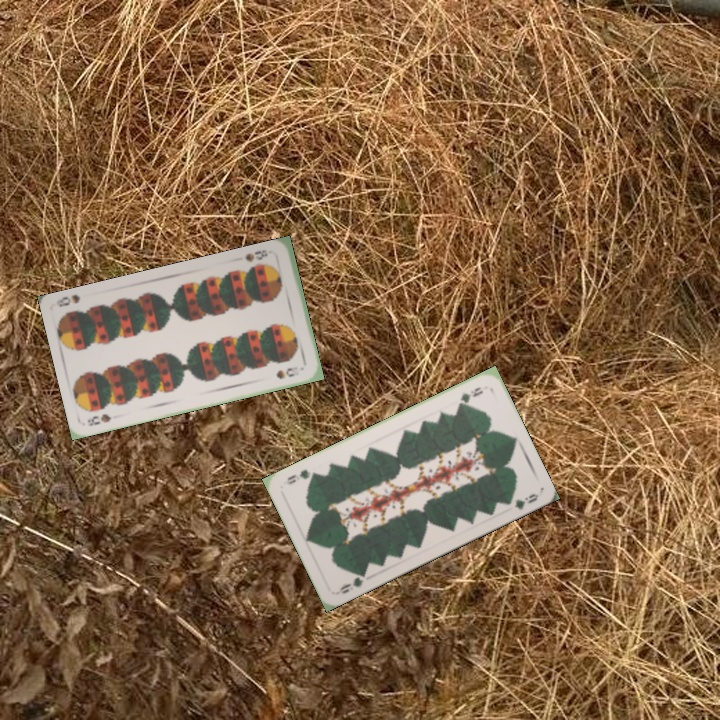G9: (333, 568, 369, 597), (453, 383, 486, 409)
S8: (83, 409, 114, 429), (241, 246, 270, 264)
